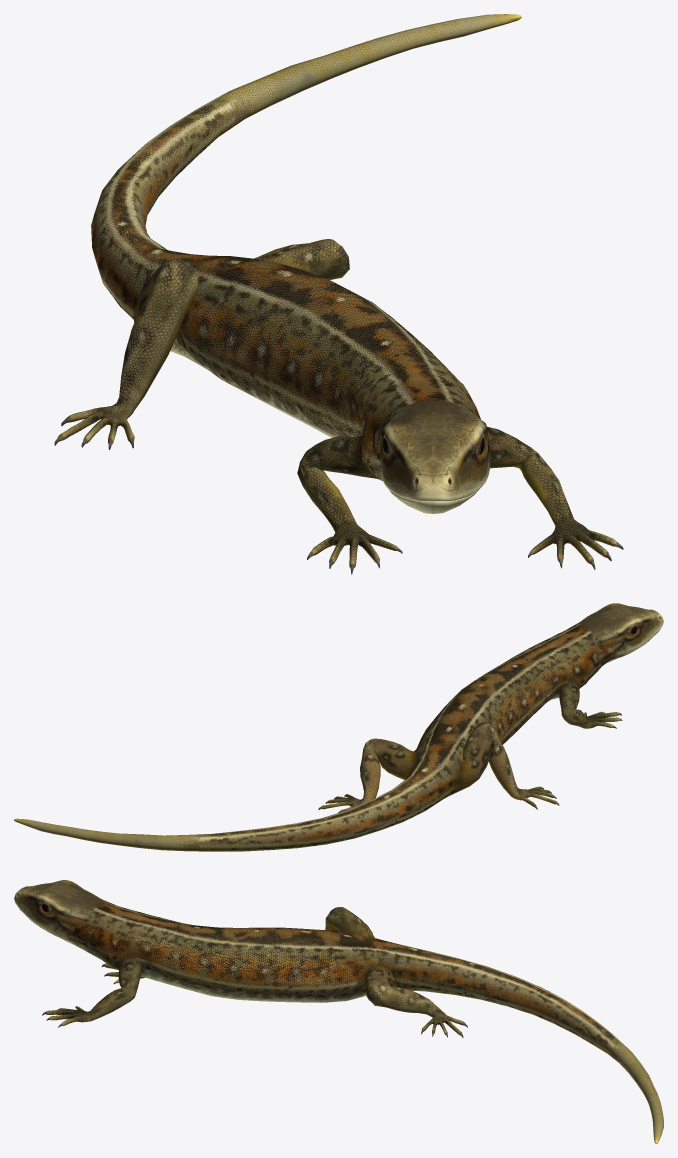
The model's file is Running272.obj.
3 renders of one model, top to bottom at view 1: azimuth 30°, elevation 25°; view 2: azimuth 150°, elevation 25°; view 3: azimuth 270°, elevation 25°, orthographic. The views are drawn at different scales.
Parts seen in each view (by area): view 1: Lizard; view 2: Lizard; view 3: Lizard.
Part boxes in pixels (bbox=[...]): Lizard: bbox=[54, 14, 623, 574]; Lizard: bbox=[14, 603, 663, 851]; Lizard: bbox=[14, 880, 663, 1143].
Size of the model in its own units: 55.93 by 12.04 by 76.29.
